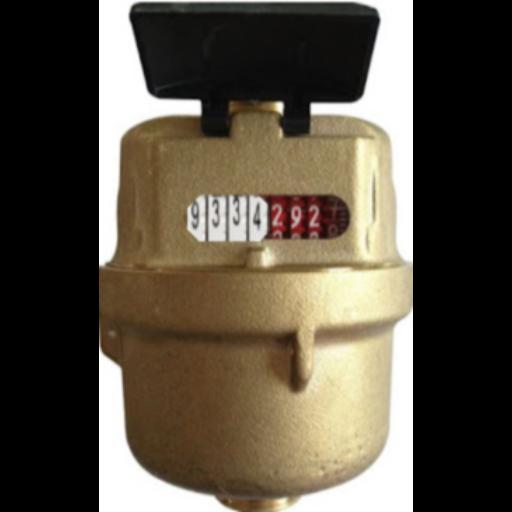2: (271, 196, 289, 241), (307, 197, 325, 240)
3: (208, 195, 226, 241), (230, 195, 248, 241)
4: (249, 196, 269, 241)
7: (326, 196, 350, 241)
9: (186, 196, 206, 241), (289, 196, 306, 241)
border_water_meter_number: (187, 194, 351, 242)
